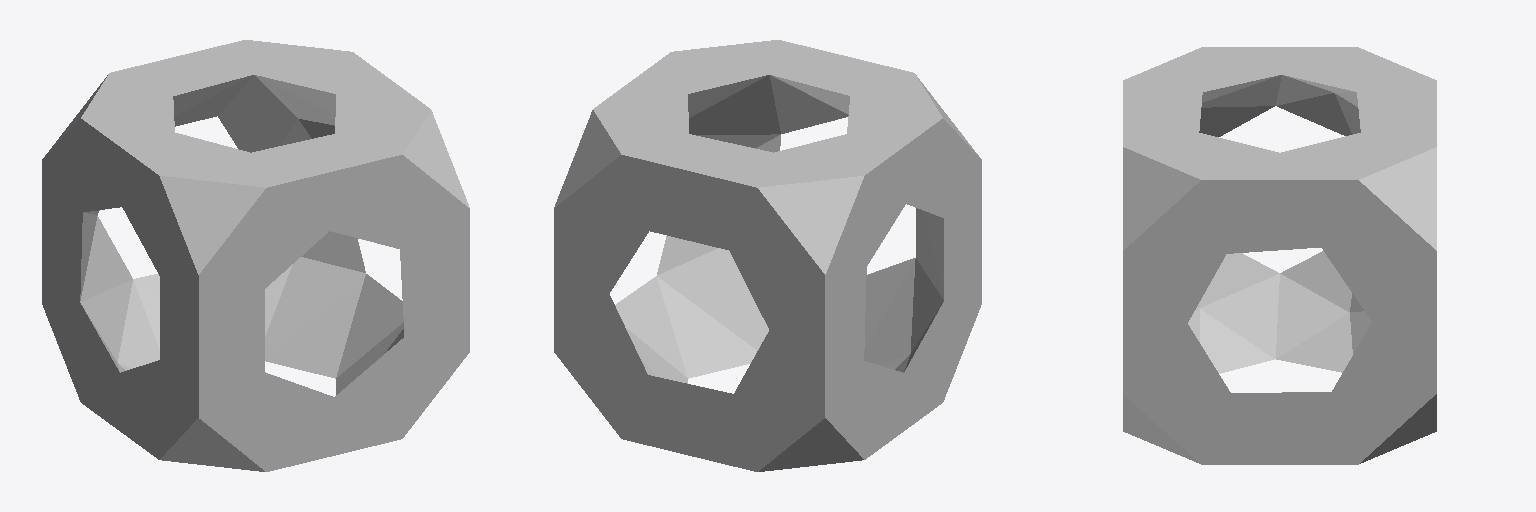
Rendered from cubeandspheres.obj.
3 renders of one model, left to right at view 1: azimuth 30°, elevation 25°; view 2: azimuth 150°, elevation 25°; view 3: azimuth 270°, elevation 25°, orthographic.
Size of the model in its own units: 1 by 1 by 1.